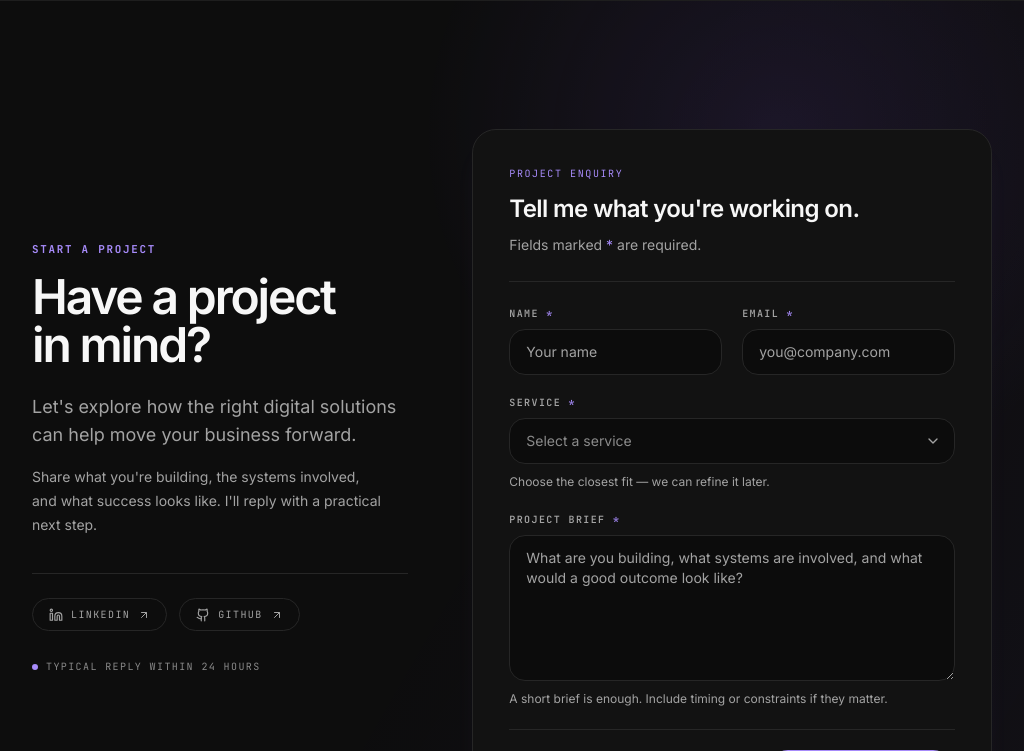
Test case: ContactSection › shows the API error response without clearing the form
The width and height of the screenshot is (1024, 751).
In the field labelled "Name *": (616, 352) [509,329,722,375], type "Alex"
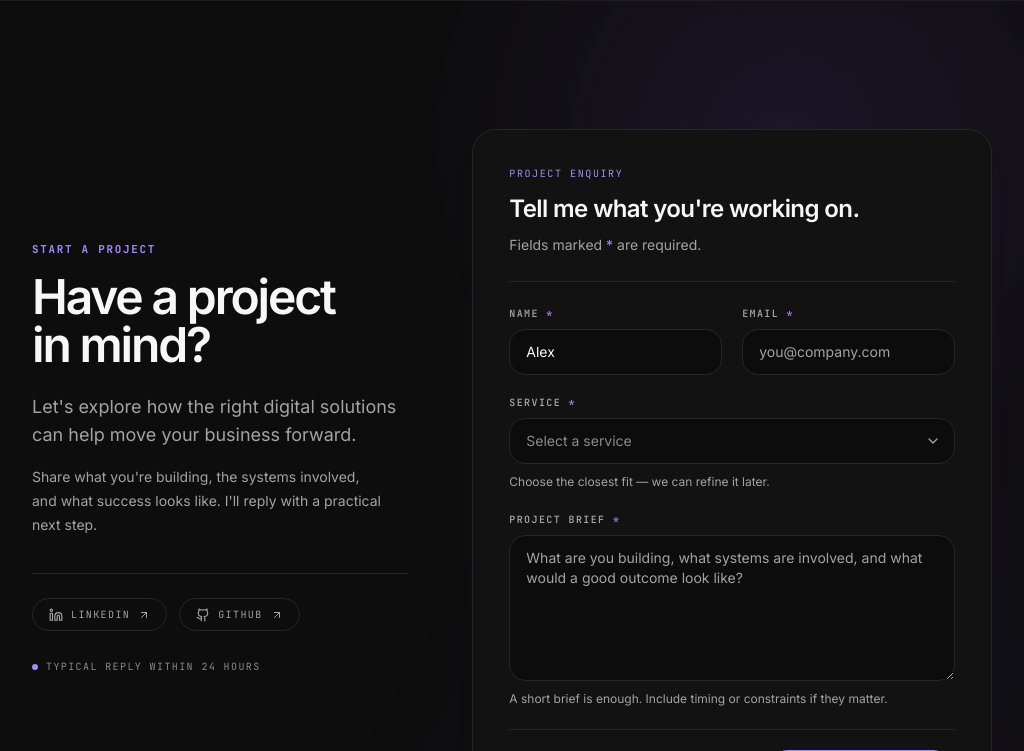
In the field labelled "Email *": (849, 352) [742,329,955,375], type "alex@example.com"
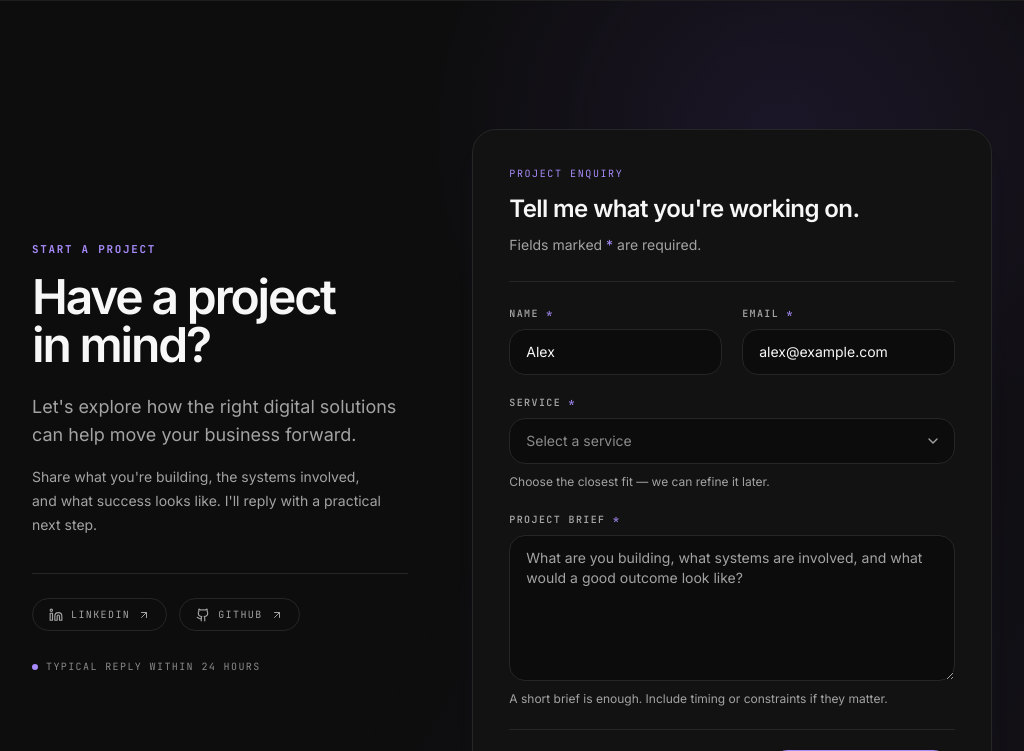
Select "Web Development" in the dropdown labelled "Service *": (732, 441) [509,418,955,464]
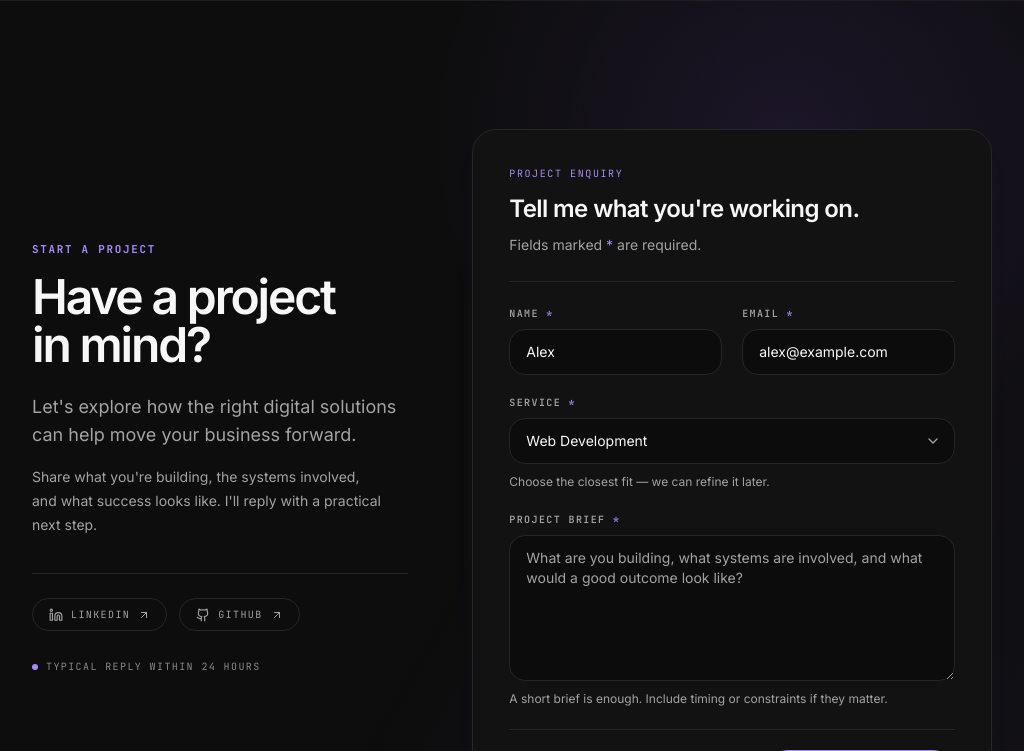
Replace the text in the text box labelled "Project brief *" with "A new marketing site with a small CMS.": (732, 608) [509,535,955,681]
(page scrolled)
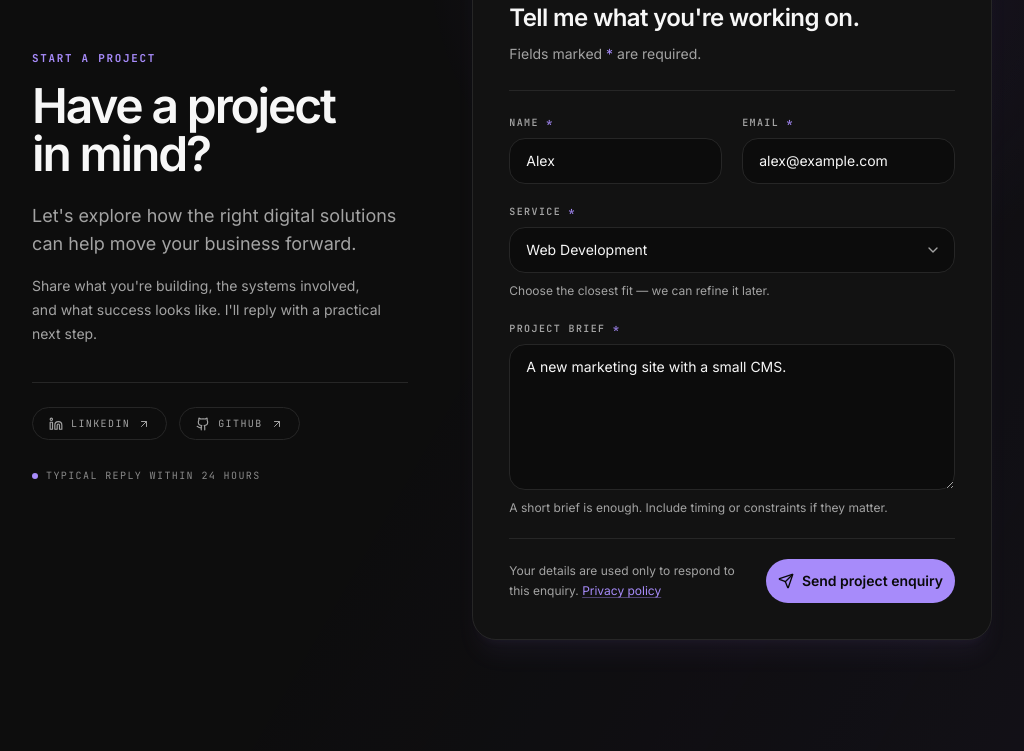
Click the button "Send project enquiry": click(860, 581) [766,559,955,603]
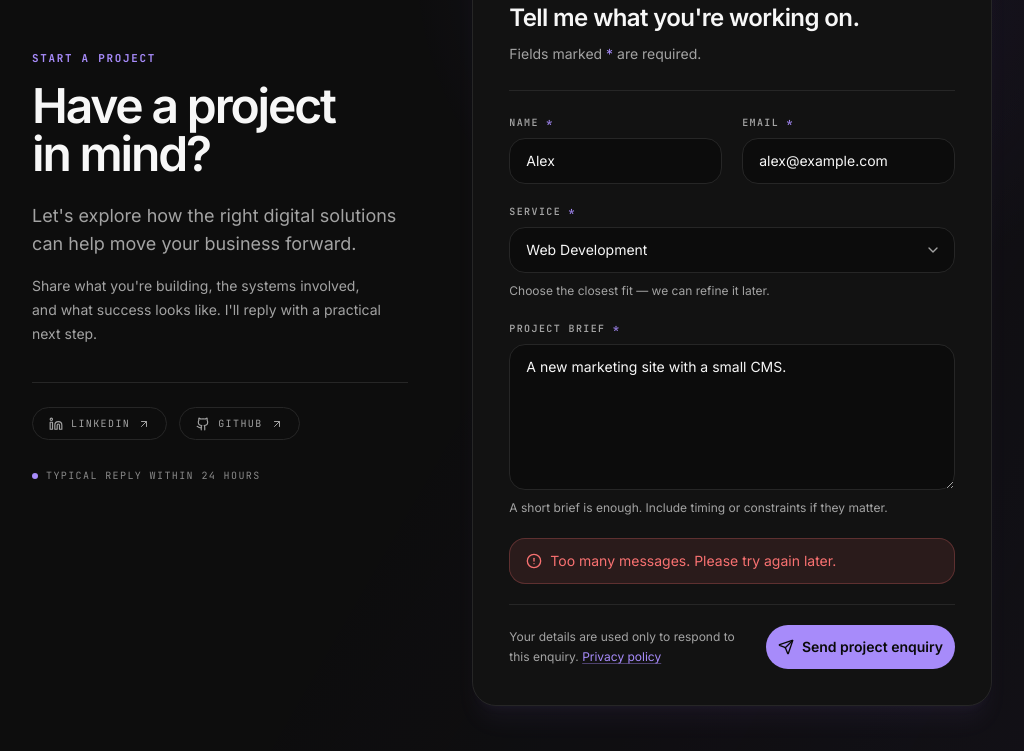
Expected: the form is shown, [509,115,955,669]
Result: the message reads "Too many messages. Please try again later." at [550,552,836,569]
